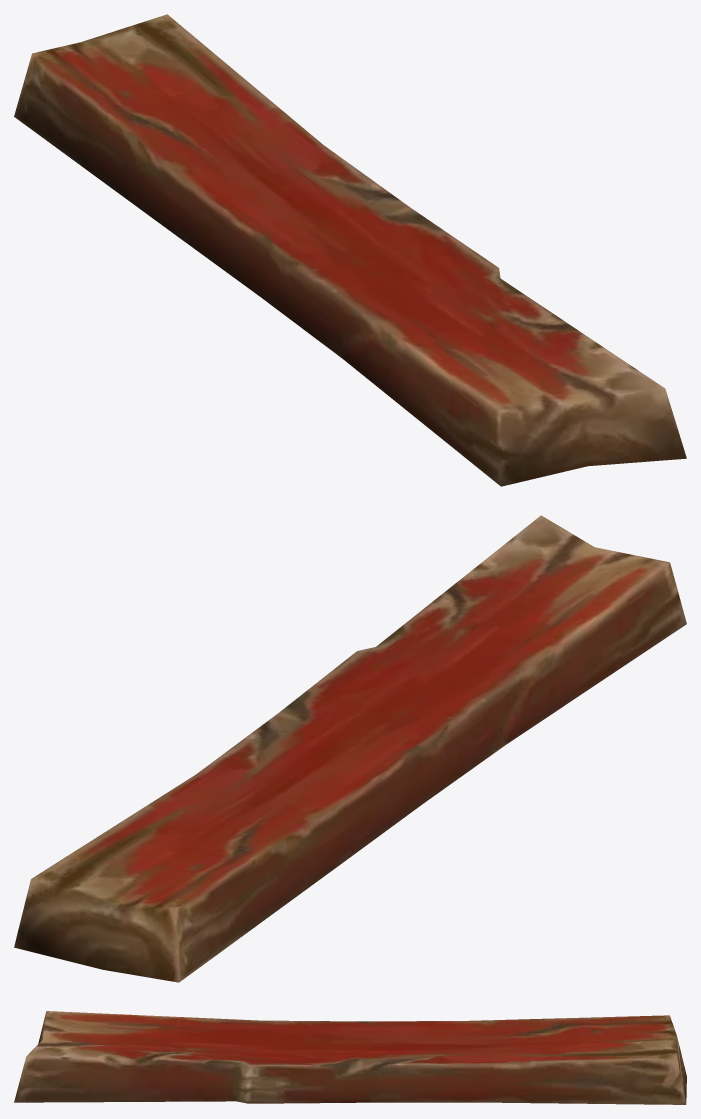
3 views of the same model, one above another, from view 1: azimuth 30°, elevation 25°; view 2: azimuth 150°, elevation 25°; view 3: azimuth 270°, elevation 25° (orthographic). The views are drawn at different scales.
Bounding box in the file's own units: 1.19 × 0.4325 × 6.17.
1 material, 1 textured.
